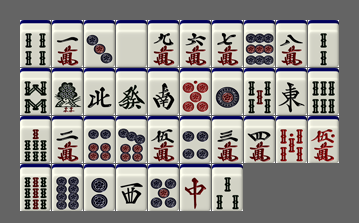0m: (308, 116, 339, 163)
0p: (180, 68, 211, 115)
0s: (276, 116, 307, 163)
1m: (52, 20, 83, 67)
1p: (212, 68, 243, 115)
1s: (52, 68, 83, 115)
1z: (276, 68, 307, 115)
2m: (52, 116, 83, 163)
2p: (84, 164, 115, 211)
2s: (308, 20, 339, 67)
2z: (148, 68, 179, 115)
3m: (212, 116, 243, 163)
3p: (84, 20, 115, 67)
3s: (212, 164, 243, 211)
3z: (116, 164, 147, 211)
4m: (244, 116, 275, 163)
4p: (180, 116, 211, 163)
4s: (20, 20, 51, 67)
4z: (84, 68, 115, 115)
5m: (148, 116, 179, 163)
5p: (148, 164, 179, 211)
5s: (244, 68, 275, 115)
5z: (116, 20, 147, 67)
6m: (180, 20, 211, 67)
6p: (84, 116, 115, 163)
6s: (308, 68, 339, 115)
6z: (116, 68, 147, 115)
7m: (212, 20, 243, 67)
7p: (116, 116, 147, 163)
7s: (20, 116, 51, 163)
7z: (180, 164, 211, 211)
8m: (276, 20, 307, 67)
8p: (52, 164, 83, 211)
8s: (20, 68, 51, 115)
9m: (148, 20, 179, 67)
9p: (244, 20, 275, 67)
9s: (20, 164, 51, 211)
